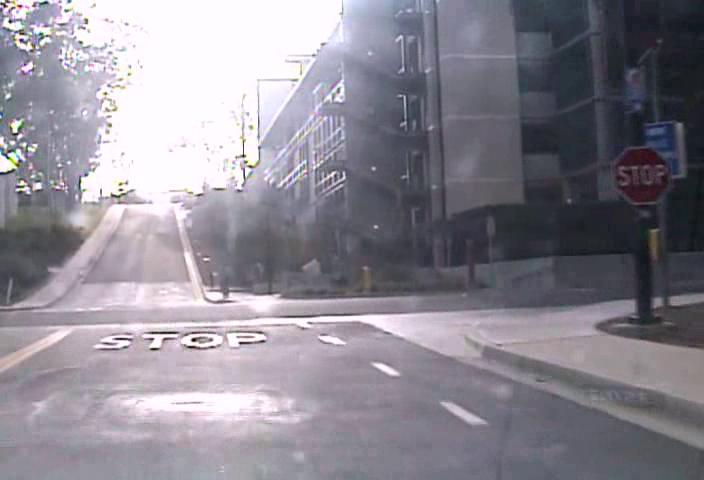stop: (611, 145, 671, 205)
